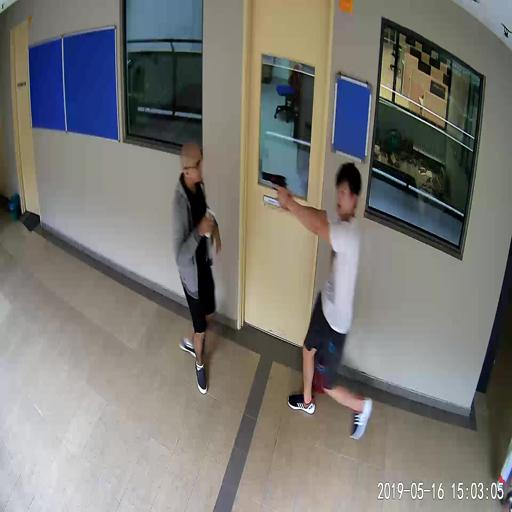pistol: (261, 170, 286, 201)
